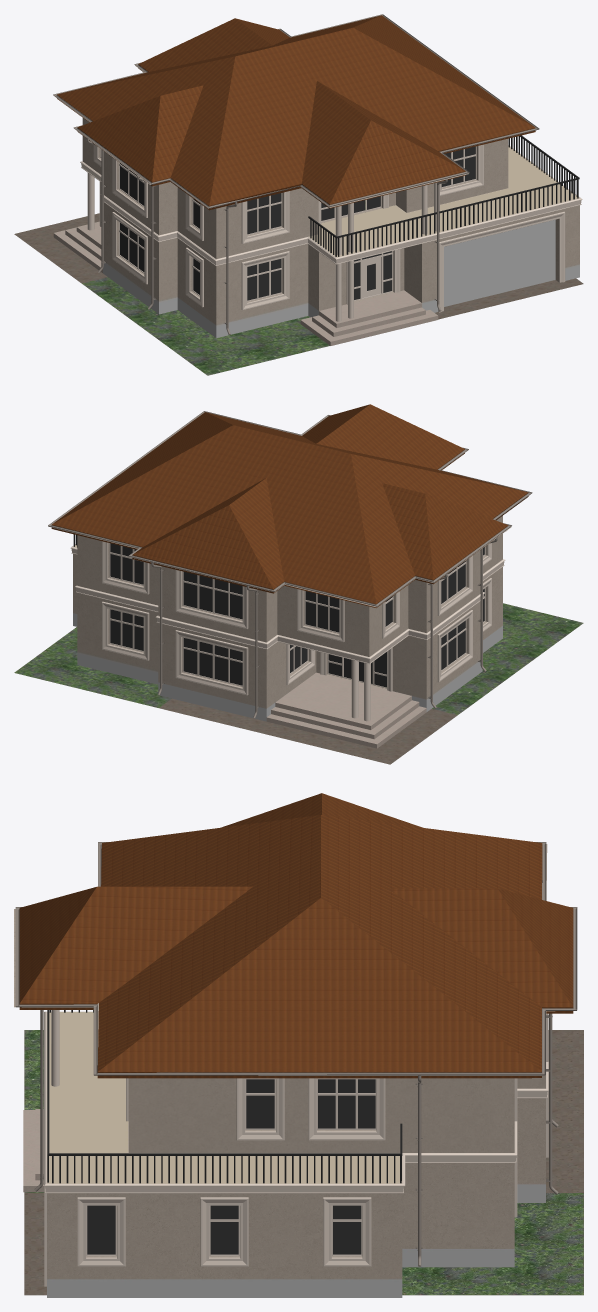
The model's file is house3.glb.
3 views of the same model, one above another, from view 1: azimuth 30°, elevation 25°; view 2: azimuth 150°, elevation 25°; view 3: azimuth 270°, elevation 25° (orthographic). The views are drawn at different scales.
Parts seen in each view (by area): view 1: roof_main_metal, walls_1st_floor, ground, walls_2nd_floor, windows_frame_02, balcony, windows_glass, railing, sewer, stairs_01, walls_middle, windows_frame (+2 smaller); view 2: roof_main_metal, walls_1st_floor, ground, walls_2nd_floor, windows_glass, windows_frame_02, stairs_02, sewer, windows_frame, walls_middle, collona, podstav; view 3: roof_main_metal, walls_1st_floor, walls_2nd_floor, ground, balcony, windows_frame_02, windows_glass, sewer, walls_middle, railing, windows_frame, stairs_01 (+2 smaller).
Part boxes in pixels (bbox=[...]): roof_main_metal: bbox=[57, 15, 535, 210]; walls_1st_floor: bbox=[103, 202, 579, 338]; ground: bbox=[14, 200, 583, 375]; walls_2nd_floor: bbox=[82, 118, 508, 259]; windows_frame_02: bbox=[93, 144, 565, 312]; balcony: bbox=[308, 146, 579, 257]; windows_glass: bbox=[120, 146, 475, 300]; railing: bbox=[308, 135, 579, 256]; sewer: bbox=[53, 14, 539, 334]; stairs_01: bbox=[300, 290, 438, 345]; walls_middle: bbox=[80, 145, 582, 265]; windows_frame: bbox=[100, 146, 476, 301]; roof_main_metal: bbox=[51, 404, 528, 607]; walls_1st_floor: bbox=[73, 554, 502, 721]; ground: bbox=[14, 603, 583, 764]; walls_2nd_floor: bbox=[77, 516, 502, 656]; windows_glass: bbox=[110, 543, 484, 687]; windows_frame_02: bbox=[102, 541, 491, 695]; stairs_02: bbox=[266, 672, 426, 748]; sewer: bbox=[48, 411, 532, 718]; windows_frame: bbox=[109, 543, 485, 688]; walls_middle: bbox=[70, 544, 505, 663]; collona: bbox=[351, 660, 370, 721]; podstav: bbox=[49, 458, 511, 607]; roof_main_metal: bbox=[19, 793, 573, 1078]; walls_1st_floor: bbox=[47, 1098, 545, 1297]; walls_2nd_floor: bbox=[128, 1075, 545, 1152]; ground: bbox=[24, 1030, 583, 1295]; balcony: bbox=[47, 1012, 402, 1183]; windows_frame_02: bbox=[44, 1013, 548, 1286]; windows_glass: bbox=[87, 1079, 375, 1254]; sewer: bbox=[15, 842, 577, 1266]; walls_middle: bbox=[44, 1011, 548, 1193]; railing: bbox=[47, 1010, 402, 1183]; windows_frame: bbox=[86, 1079, 376, 1256]; stairs_01: bbox=[23, 1109, 44, 1192].
Bounding box in the file's own units: 10.26 × 5.46 × 9.18.
Materials: 12 (12 with a texture image).
